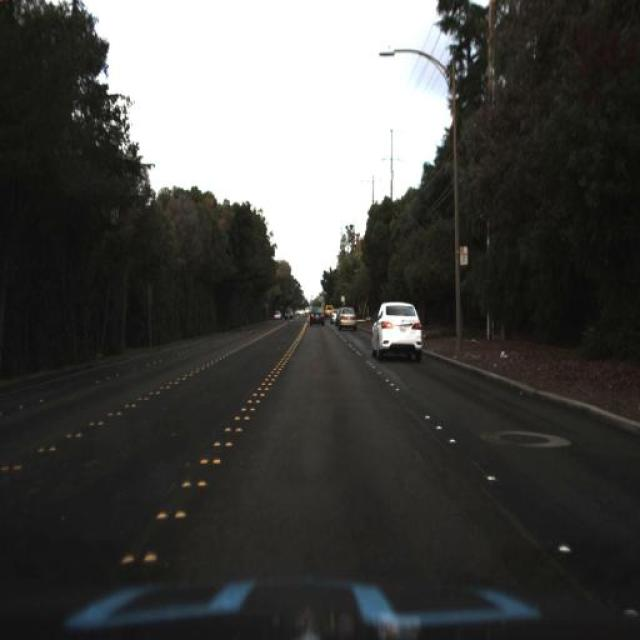car: (373, 296, 432, 360), (342, 301, 363, 335), (310, 304, 328, 328)
